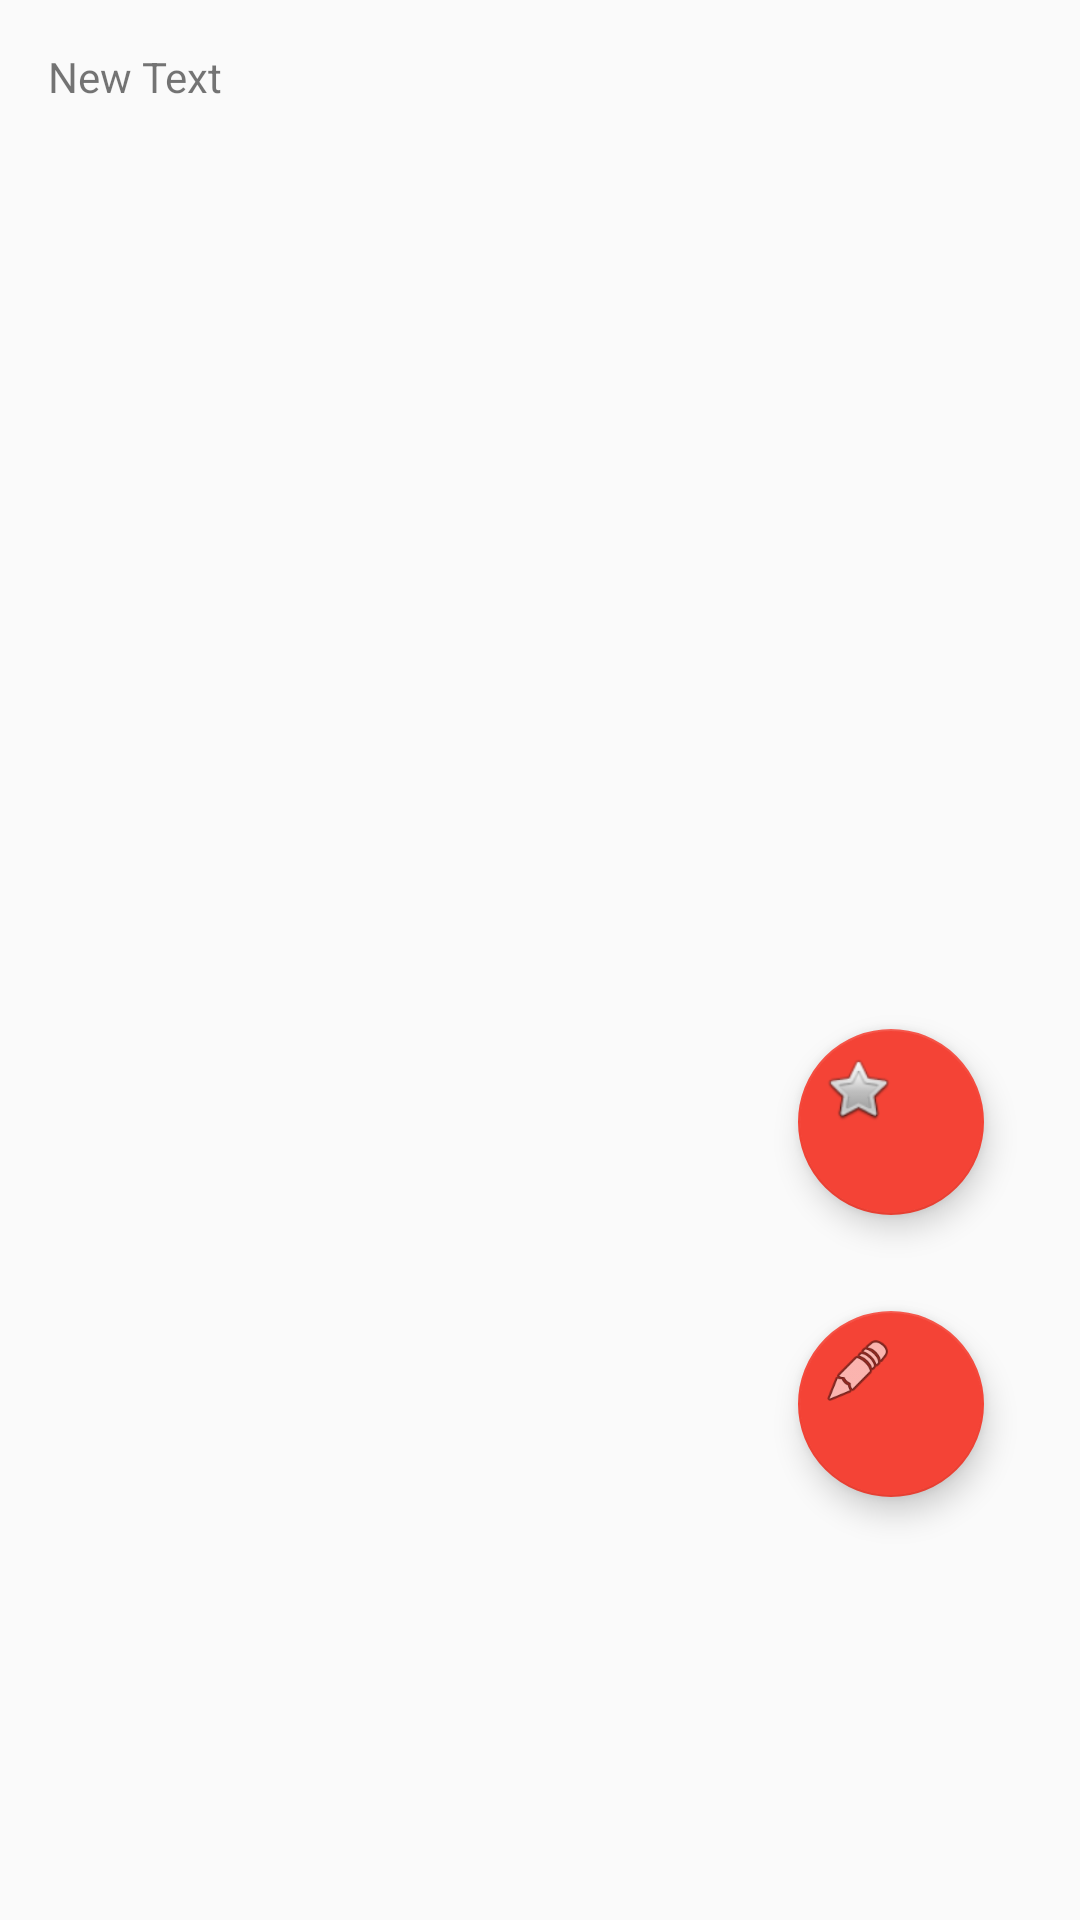

Icon click points for this 1080px x 1920px phone screenshot, format (x=x, y=y):
edit: (x=891, y=1404)
star: (x=891, y=1122)
